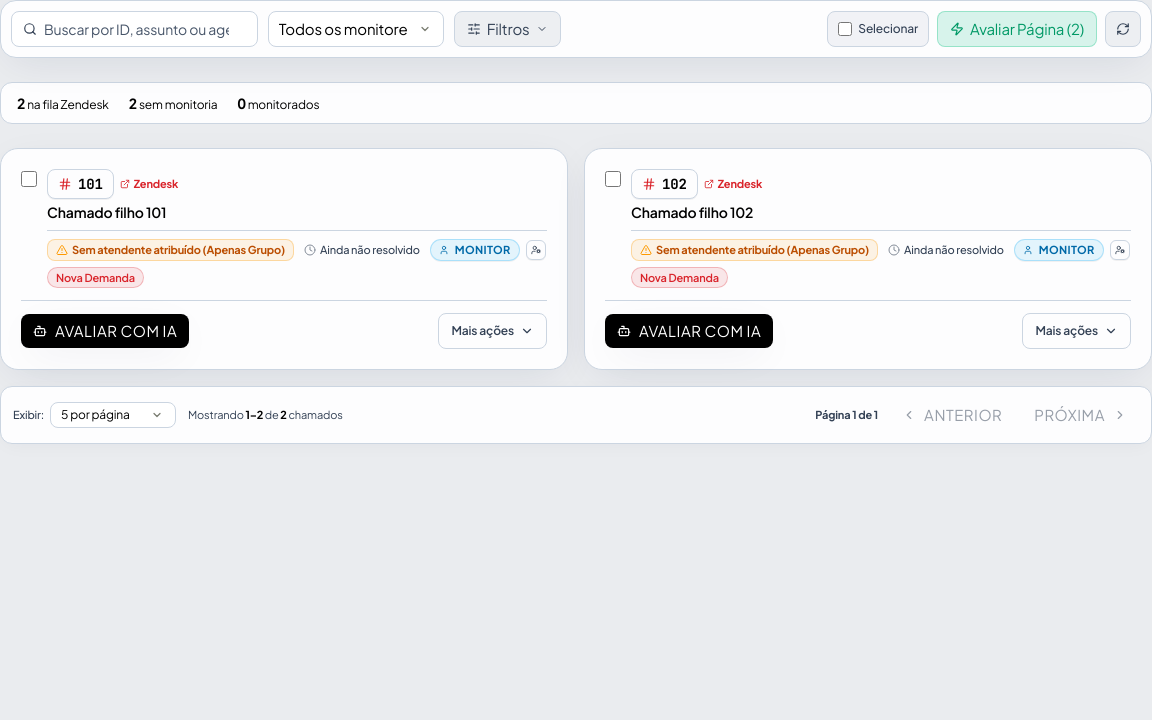
Test: IA de chamados filhos › fecha a janela enquanto a IA trabalha e permite recuperar o resultado
Click the button "Avaliar com IA" below "Chamado filho 101" at [105, 331], box [21,314,189,348]
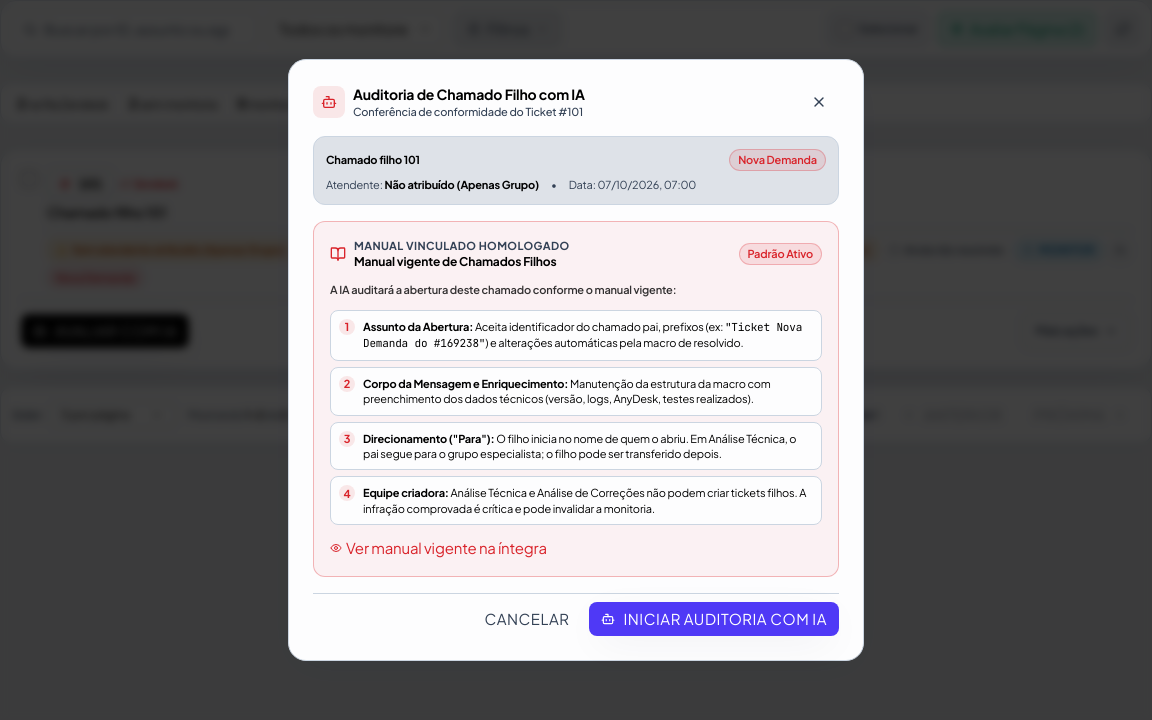
Click the button "Iniciar Auditoria com IA" at [714, 619], box [589,602,839,636]
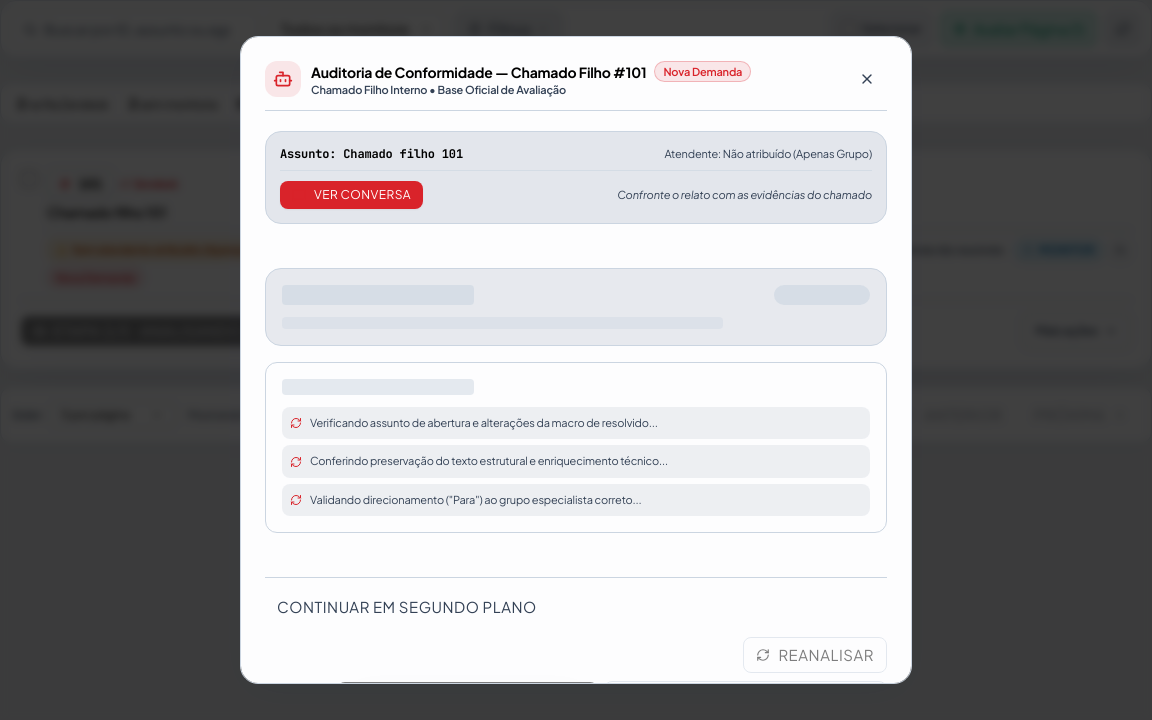
Expected: the button "Continuar em segundo plano" is enabled
Click the button "Continuar em segundo plano" at [407, 608], box [265,590,549,625]
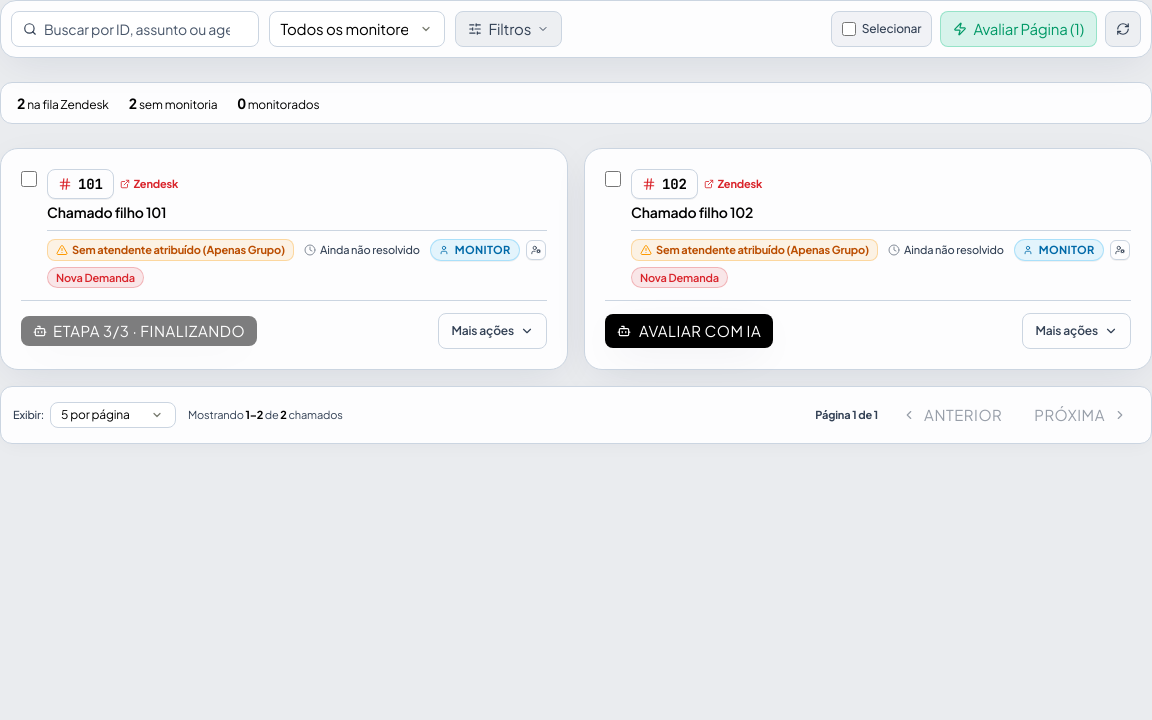
Expected: the button "Continuar em segundo plano" is gone
Click the 1st button "Mais ações" at [493, 331], box [438,313,547,349]
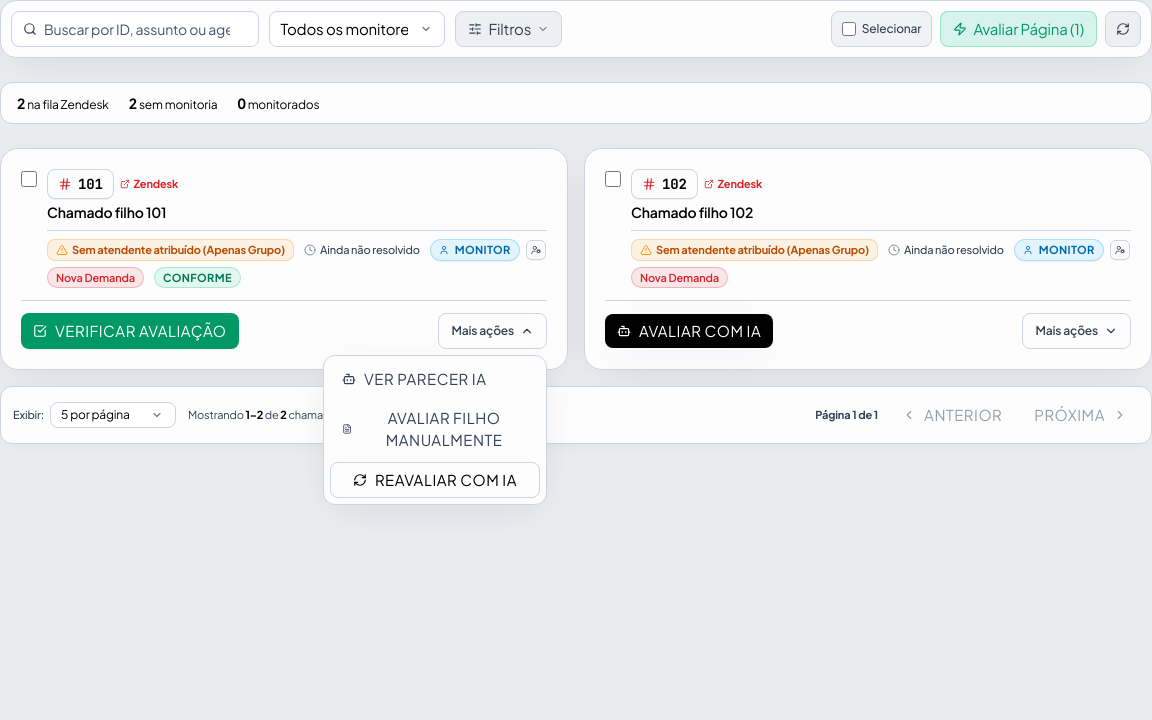
Click the button "Ver Parecer IA" at [435, 379], box [330,362,540,396]
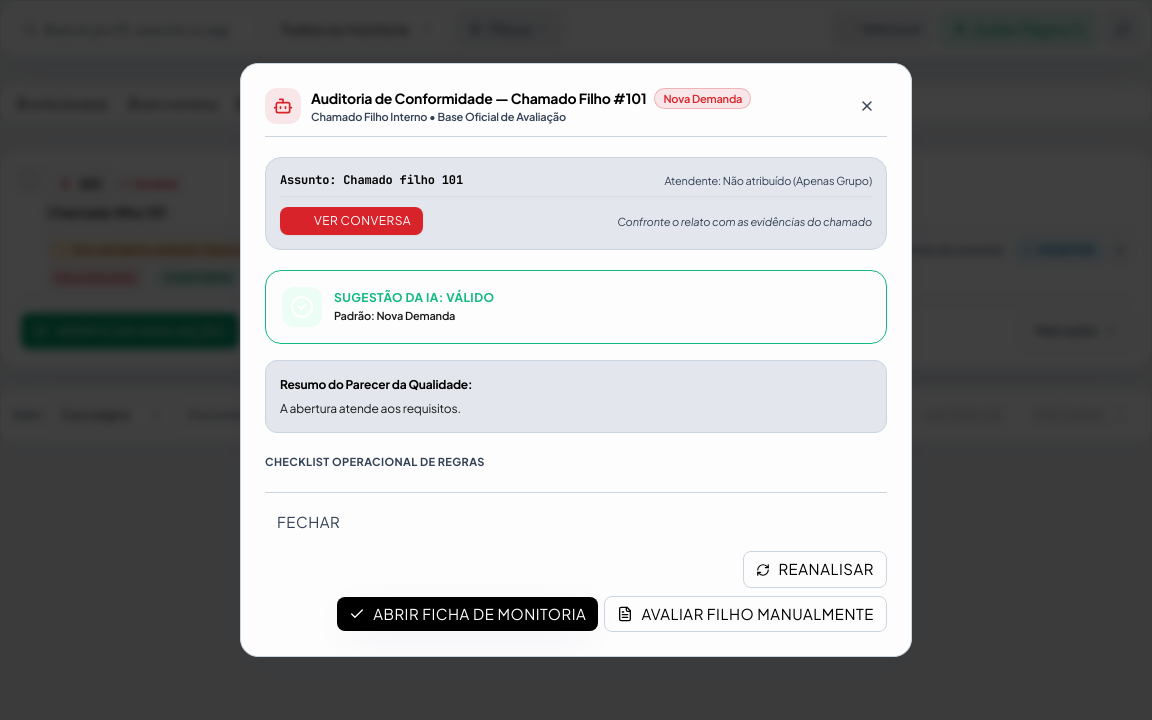
Expected: the text "A abertura atende aos requisitos." is shown, [280,401,461,416]
